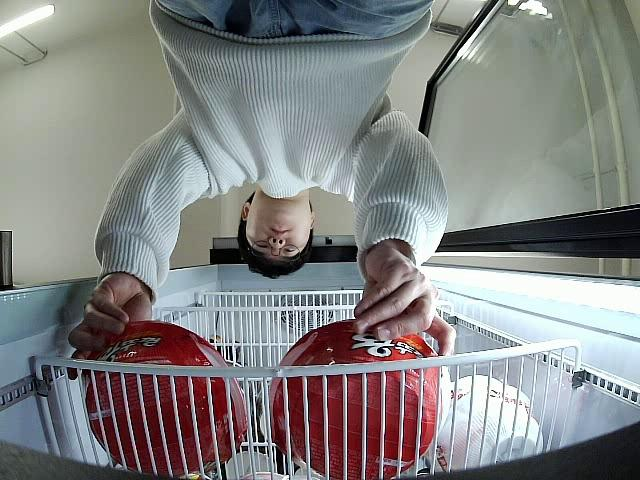00_hand: (354, 258, 456, 359), (69, 280, 151, 369)
10_wangTtukkeong: (267, 320, 449, 480), (84, 321, 249, 476)
